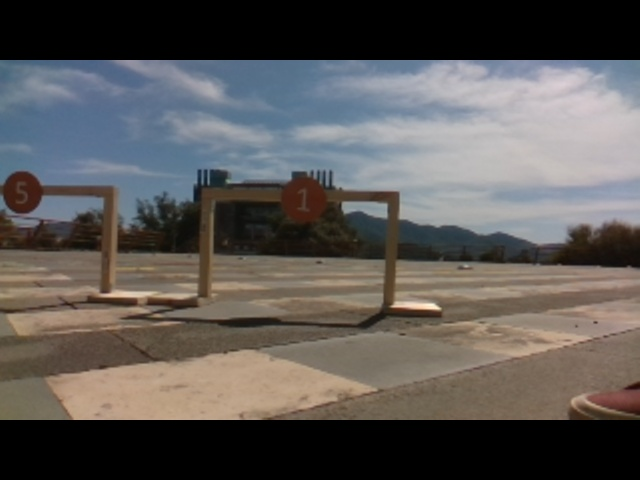checkpoint_foot: (85, 286, 148, 305), (380, 297, 442, 315), (151, 289, 215, 306)
checkpoint_side: (99, 180, 119, 293), (198, 184, 216, 295), (382, 186, 400, 297)
checkpoint_signal: (199, 183, 401, 203), (1, 180, 122, 203)
five: (3, 167, 45, 215)
one: (282, 176, 328, 221)
